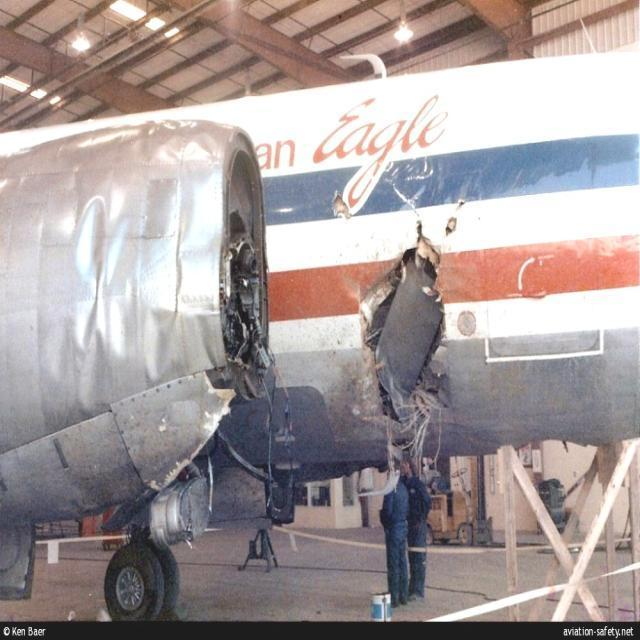dent: (43, 175, 196, 414)
